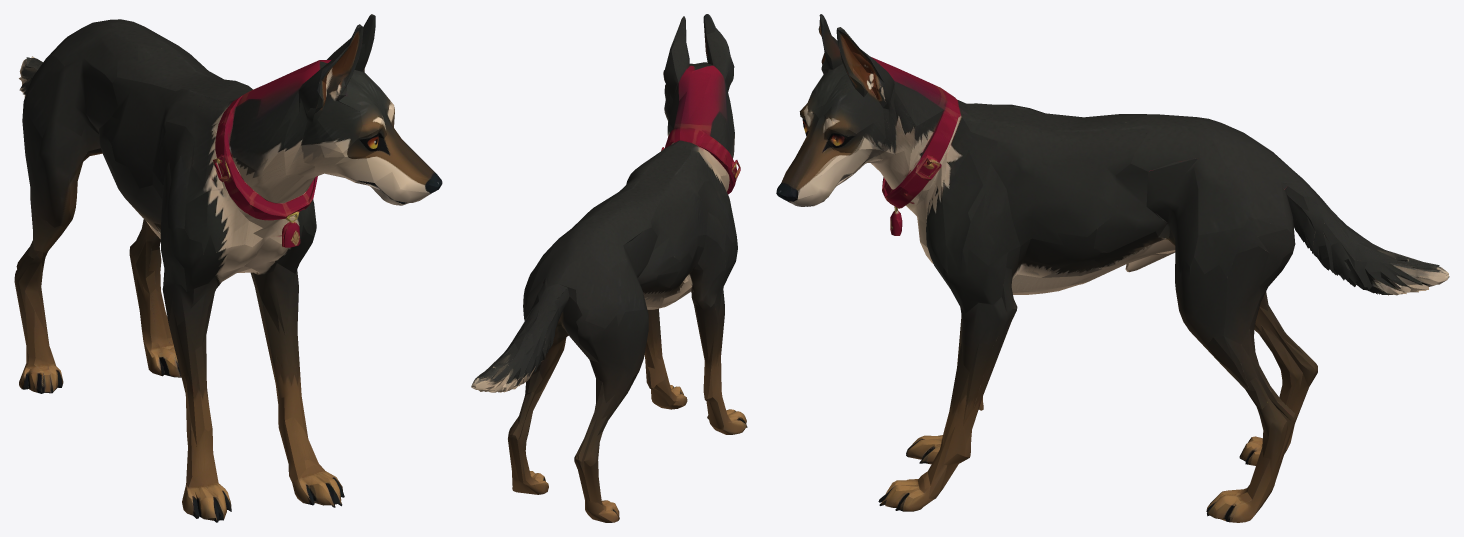
The model's file is meshy-body.glb.
3 views of the same model, side by side, from view 1: azimuth 30°, elevation 25°; view 2: azimuth 150°, elevation 25°; view 3: azimuth 270°, elevation 25° (orthographic). The views are drawn at different scales.
Bounding box in the file's own units: 0.5691 × 1.51 × 1.9.
Materials: 1 (1 with a texture image).
